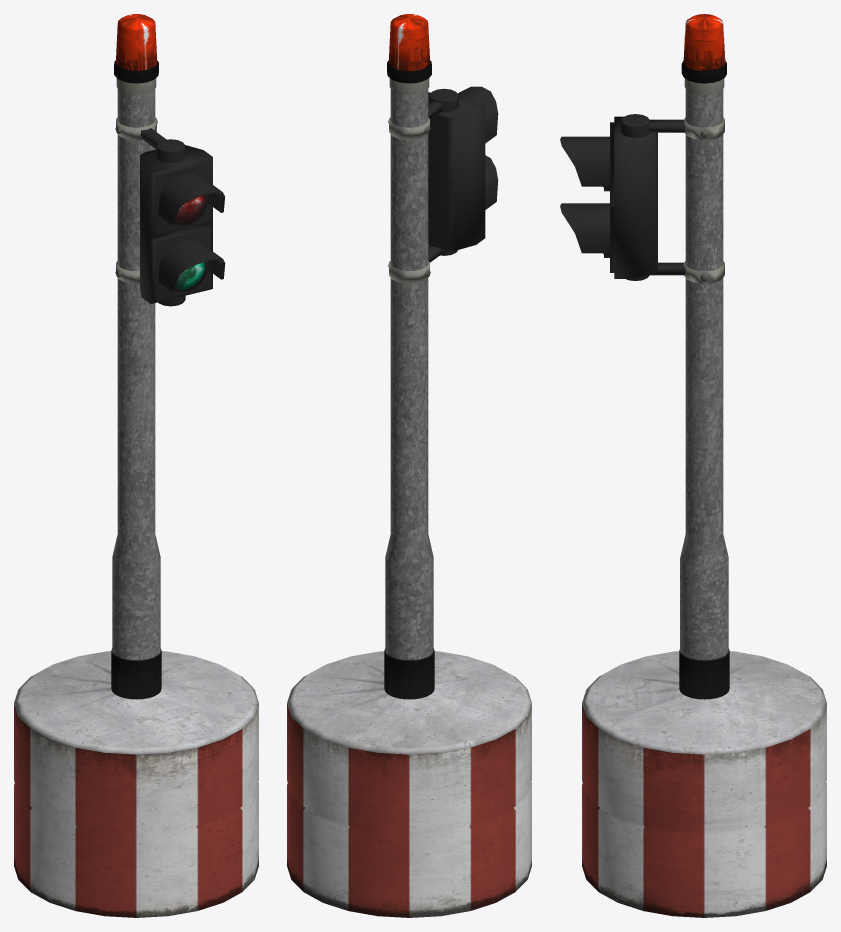
Rendered from betonblock_rund_01.fbx.
The picture shows the model from 3 angles, left to right: view 1: azimuth 30°, elevation 25°; view 2: azimuth 150°, elevation 25°; view 3: azimuth 270°, elevation 25°; orthographic projection.
Visible parts, largest first — view 1: betonblock_rund_01, betonblock_rund_01_mast, betonblock_rund_01_ampel_rot, betonblock_rund_01_ampel_gruen; view 2: betonblock_rund_01_mast, betonblock_rund_01, betonblock_rund_01_ampel_rot; view 3: betonblock_rund_01_mast, betonblock_rund_01, betonblock_rund_01_ampel_rot, betonblock_rund_01_ampel_gruen.
Part boxes in pixels (bbox=[...]): betonblock_rund_01: bbox=[14, 666, 258, 917]; betonblock_rund_01_mast: bbox=[20, 14, 252, 747]; betonblock_rund_01_ampel_rot: bbox=[115, 117, 222, 306]; betonblock_rund_01_ampel_gruen: bbox=[172, 191, 225, 291]; betonblock_rund_01_mast: bbox=[293, 14, 525, 747]; betonblock_rund_01: bbox=[287, 666, 531, 917]; betonblock_rund_01_ampel_rot: bbox=[388, 86, 498, 283]; betonblock_rund_01_mast: bbox=[588, 14, 820, 747]; betonblock_rund_01: bbox=[582, 666, 826, 917]; betonblock_rund_01_ampel_rot: bbox=[560, 114, 724, 283]; betonblock_rund_01_ampel_gruen: bbox=[562, 186, 609, 257].
Bounding box in the file's own units: 88 × 336 × 95.89.
